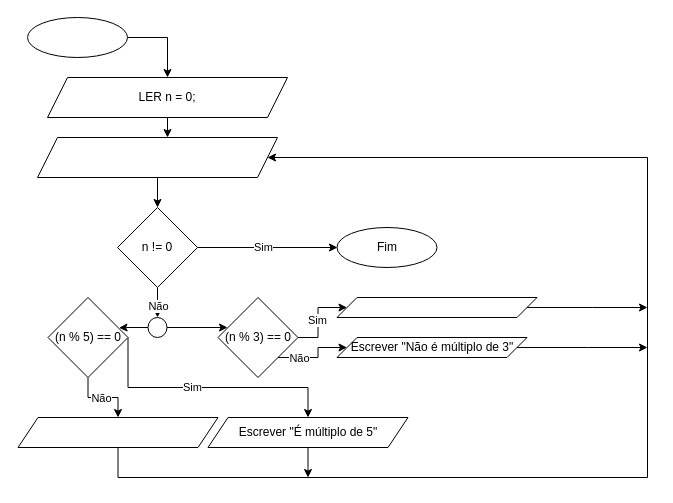
The diagram is 673 pixels wide and 503 high, and some of its shapes have lost their labels. The centre of each missing label's shape, as x and y in pixels:
Escreve "Diz um número :" LER n: point 157,157
Escrever "Não é múltiplo de 5": point 117,432
Escrever "É múltiplo de 3": point 436,307
Inicio: point 77,37
